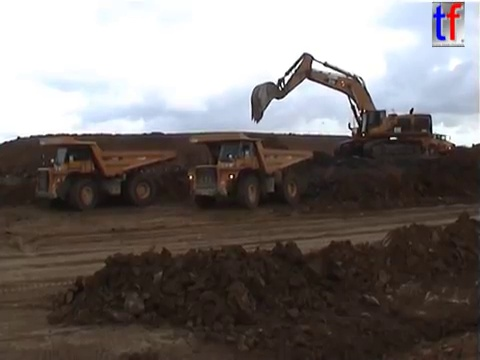excavator: (247, 50, 448, 164)
truck: (33, 133, 178, 213), (184, 131, 315, 210), (402, 132, 456, 156)
